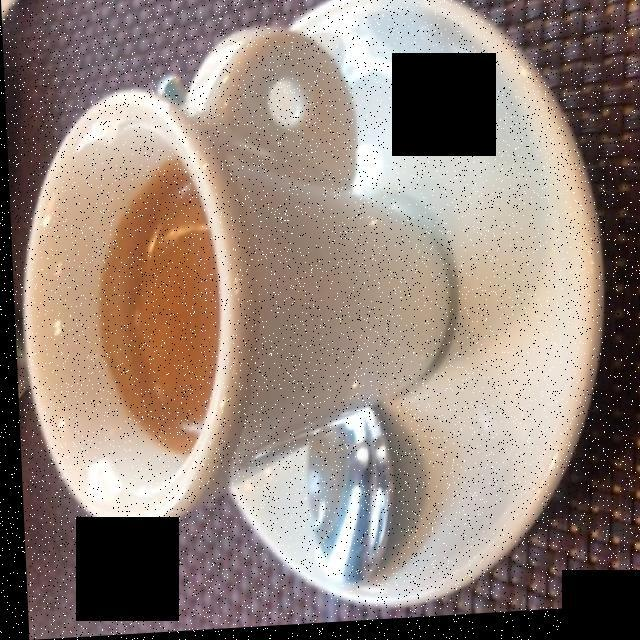espresso: (100, 168, 213, 451)
